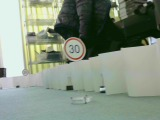speed_30: (63, 37, 86, 61)
